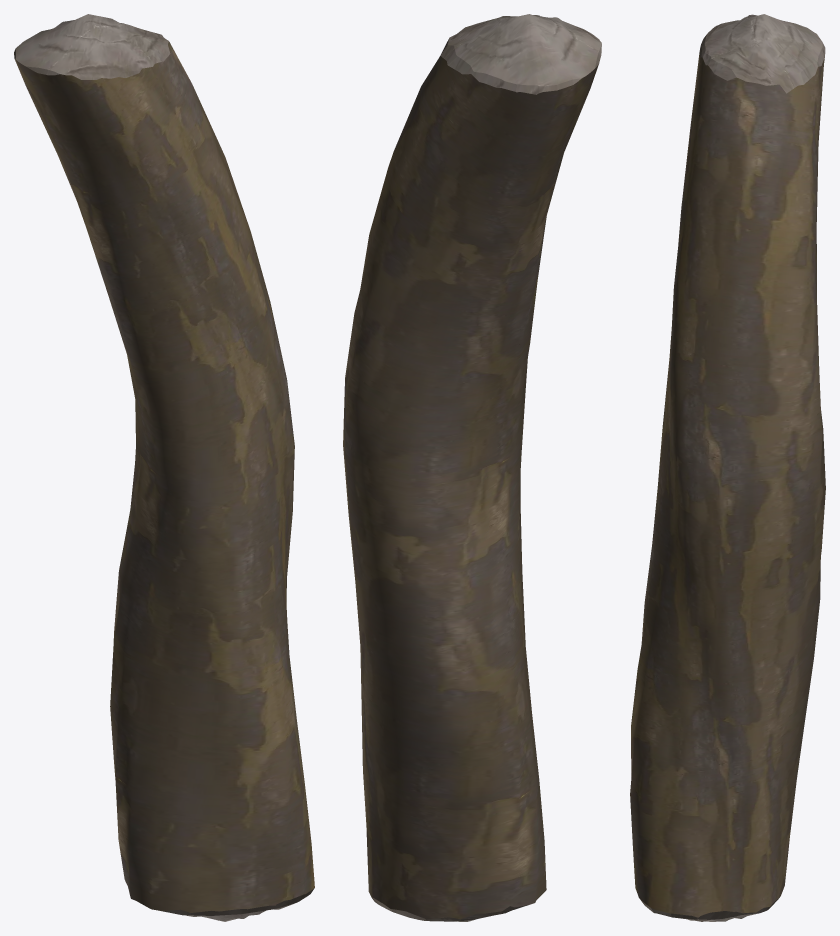
3 renders of one model, left to right at view 1: azimuth 30°, elevation 25°; view 2: azimuth 150°, elevation 25°; view 3: azimuth 270°, elevation 25°, orthographic. The views are drawn at different scales.
Parts seen in each view (by area): view 1: SM_Yew_02_half_top_LOD0; view 2: SM_Yew_02_half_top_LOD0; view 3: SM_Yew_02_half_top_LOD0.
Part boxes in pixels (bbox=[...]): SM_Yew_02_half_top_LOD0: bbox=[14, 14, 314, 921]; SM_Yew_02_half_top_LOD0: bbox=[343, 14, 601, 921]; SM_Yew_02_half_top_LOD0: bbox=[630, 14, 825, 921].
Bounding box in the file's own units: 1.24 × 4.5 × 0.931.
1 material, 1 textured.
